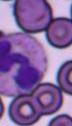N: (0, 32, 47, 92)
